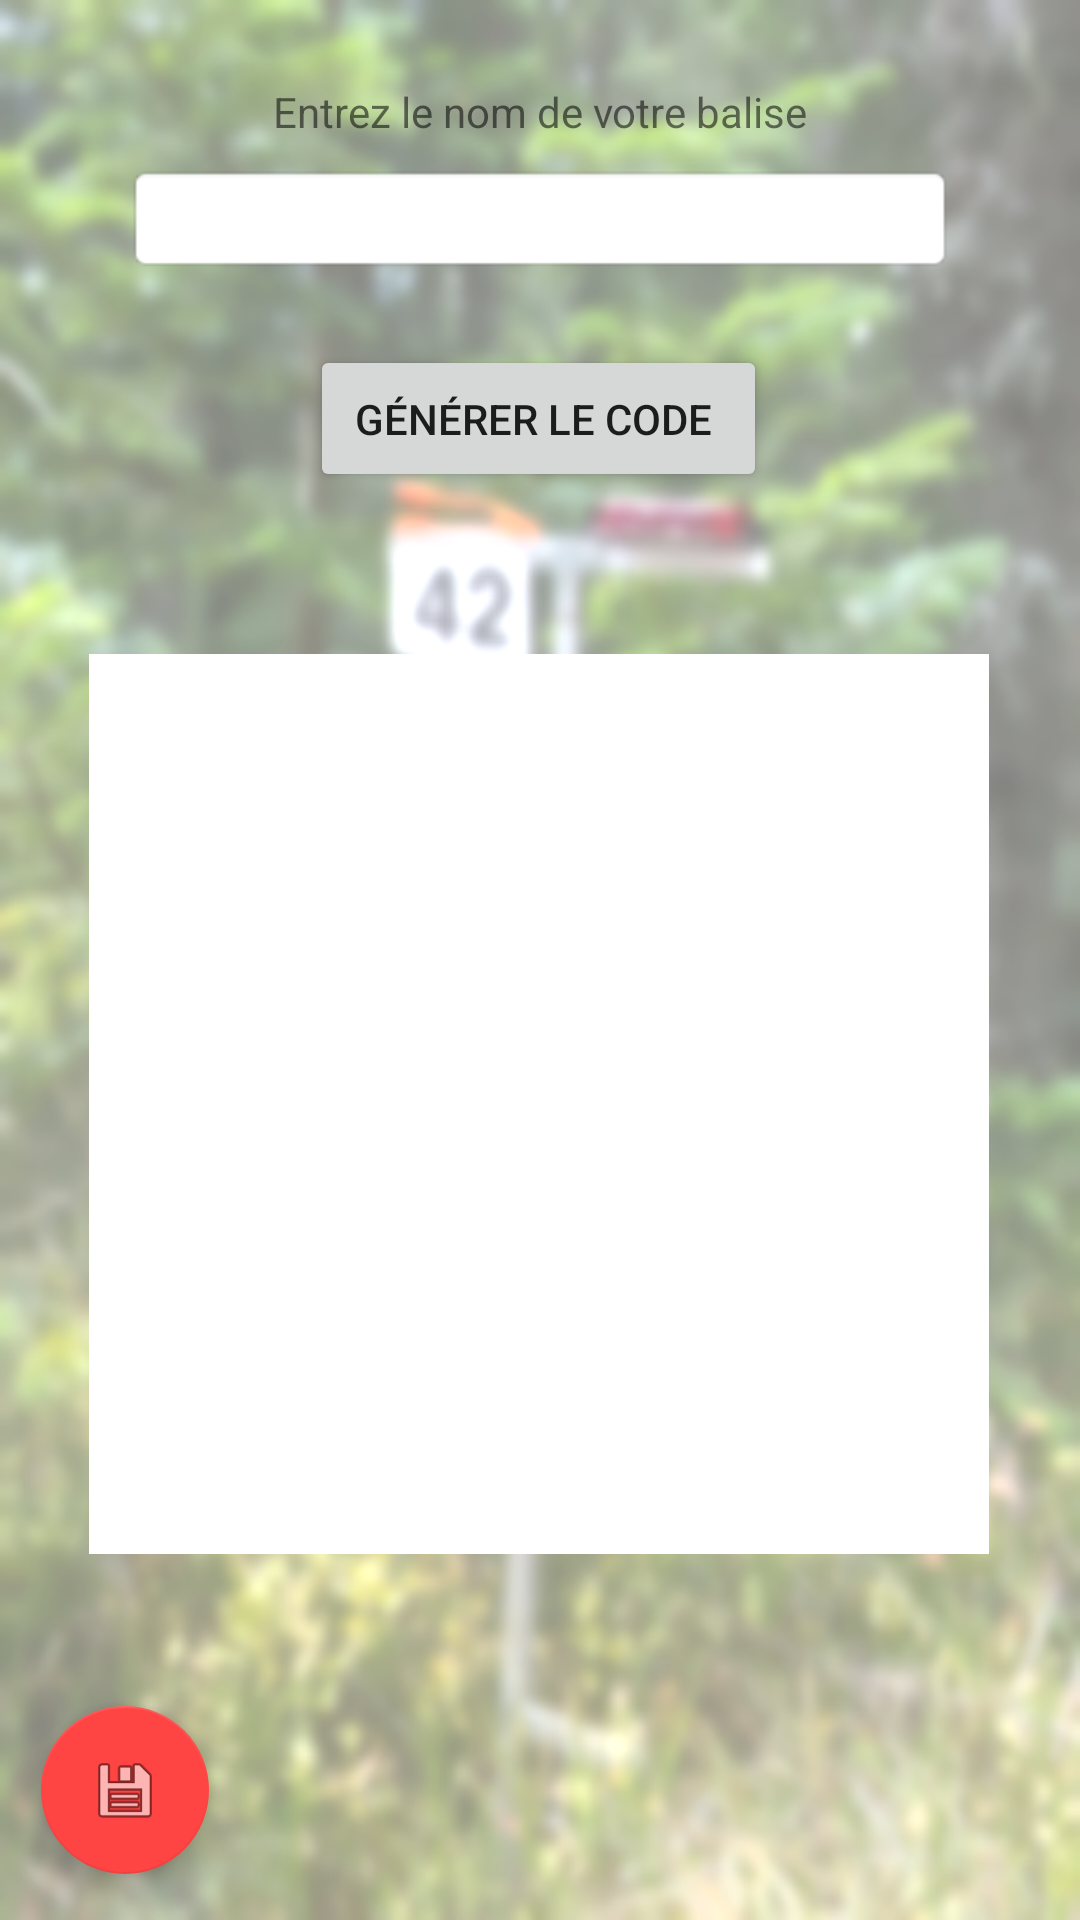

Icons on this 1080*1920 Android screen, each with its box as (x1, y1, x2, y2):
save: (41, 1706, 209, 1874)
